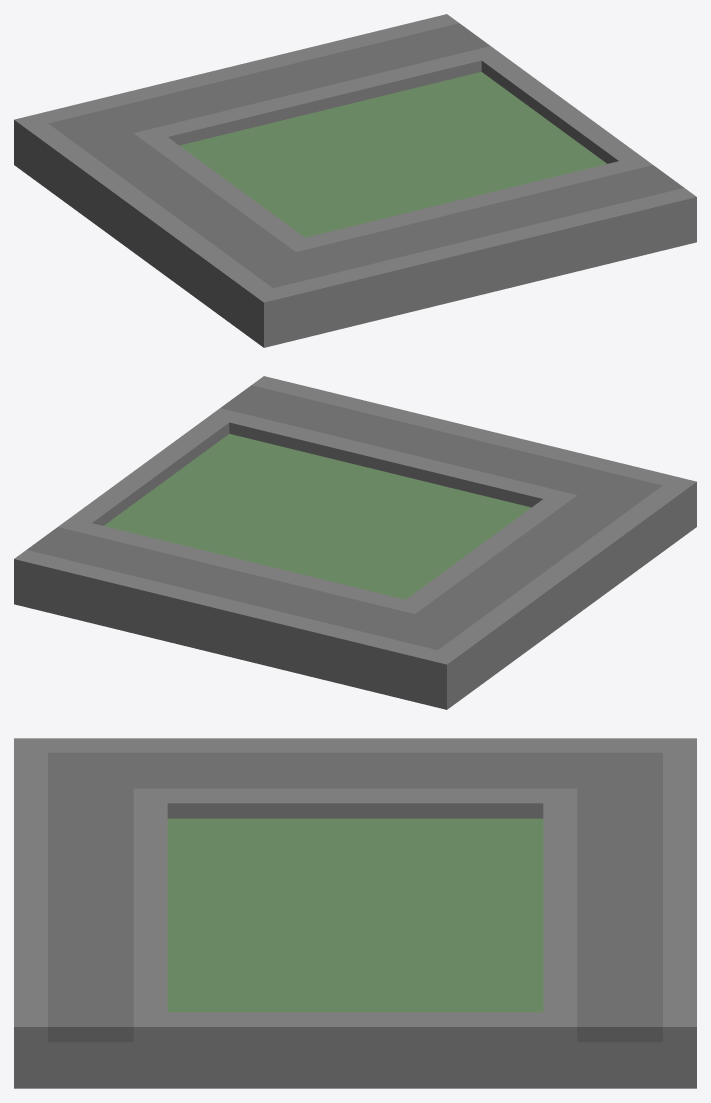
File: DE1.vox.obj
3 renders of one model, top to bottom at view 1: azimuth 30°, elevation 25°; view 2: azimuth 150°, elevation 25°; view 3: azimuth 270°, elevation 25°, orthographic. The views are drawn at different scales.
Size of the model in its own units: 4 by 0.4 by 4.
1 material, 1 textured.
